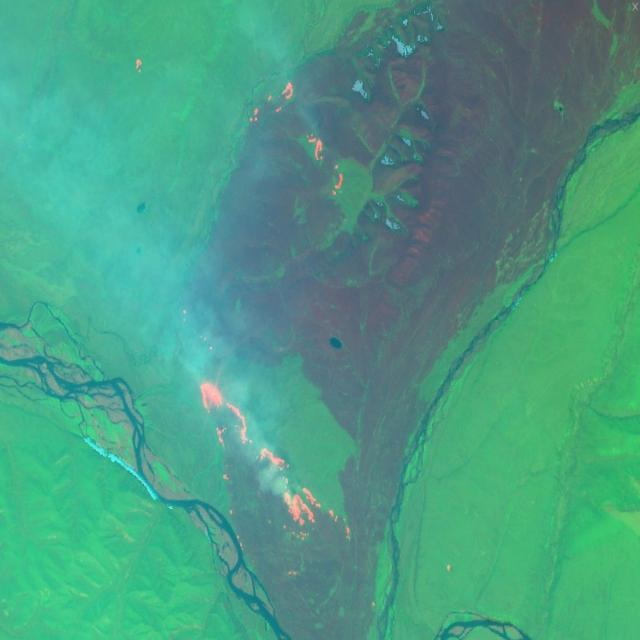fire: (196, 372, 354, 592), (244, 76, 346, 201), (130, 48, 148, 79)
